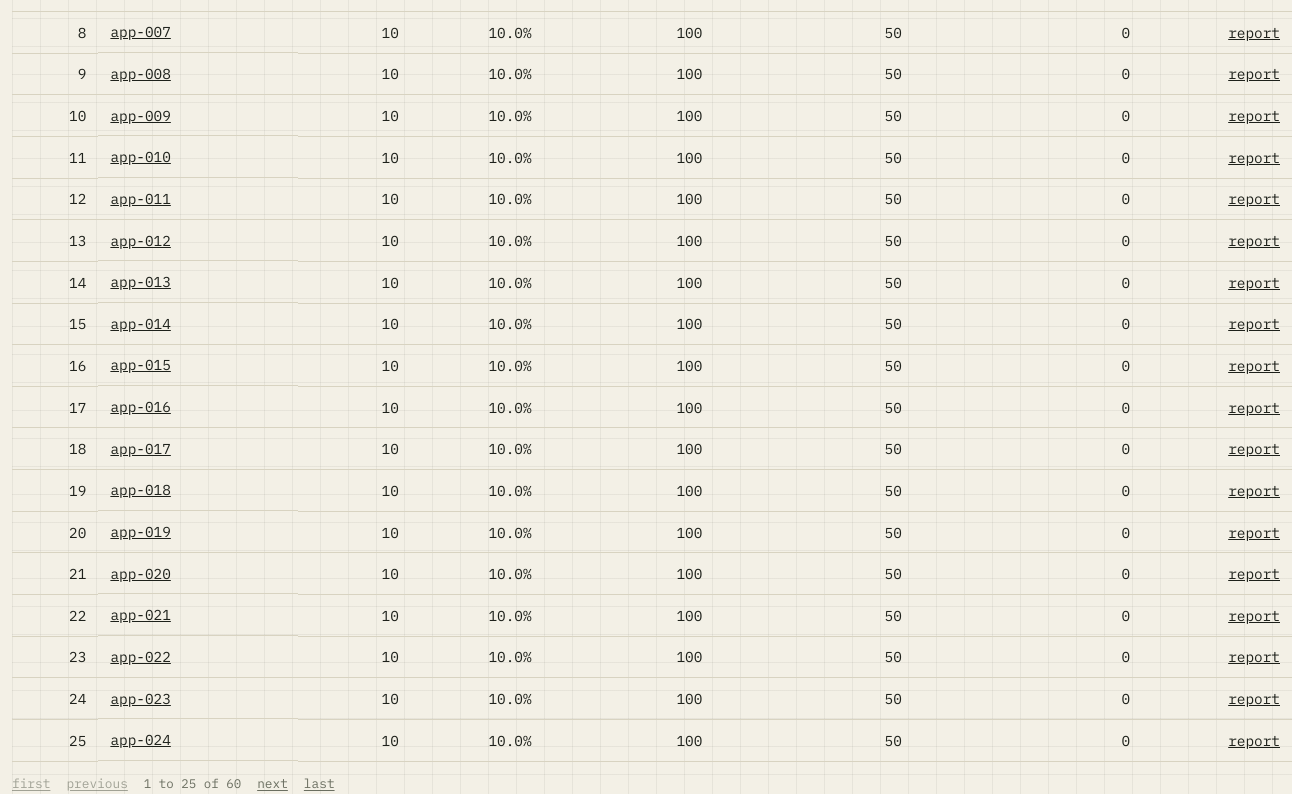
Test case: BoardTable paging › disables the ends it is already at
(page scrolled)
Expected: the button "first" is disabled, [12, 774, 50, 793]
Expected: the button "previous" is disabled, [66, 774, 128, 793]
Click the button "last" at (319, 784), box [304, 774, 335, 793]
(page scrolled)
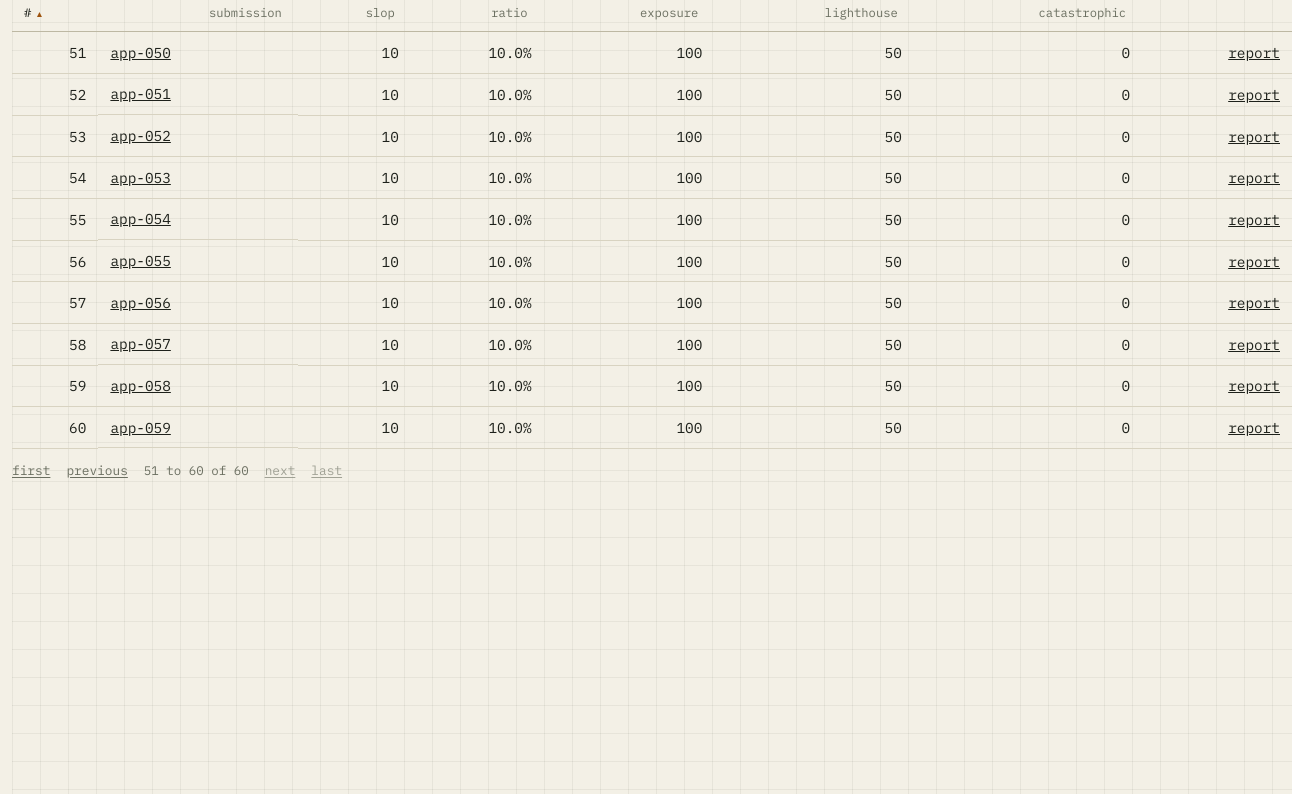
Expected: the button "next" is disabled, [265, 461, 295, 481]
Expected: the button "last" is disabled, [311, 461, 342, 481]
Expected: the button "first" is enabled, [12, 461, 50, 481]
